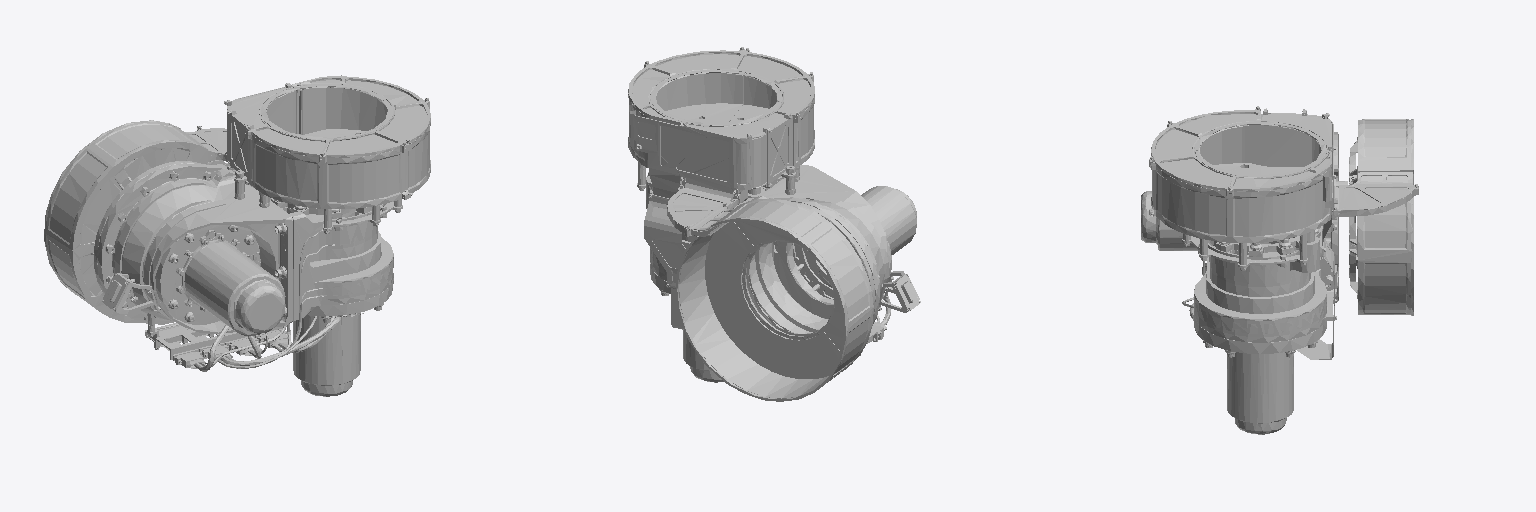
File: Arm_LINK_1.obj
3 renders of one model, left to right at view 1: azimuth 30°, elevation 25°; view 2: azimuth 150°, elevation 25°; view 3: azimuth 270°, elevation 25°, orthographic.
Visible parts, largest first — view 1: Arm_LINK_1.obj; view 2: Arm_LINK_1.obj; view 3: Arm_LINK_1.obj.
Part boxes in pixels (left/top/right/bottom): Arm_LINK_1.obj: left=44, top=75, right=430, bottom=396; Arm_LINK_1.obj: left=628, top=47, right=920, bottom=401; Arm_LINK_1.obj: left=1141, top=106, right=1418, bottom=434.
Bounding box in the file's own units: 0.4068 × 0.3671 × 0.331.